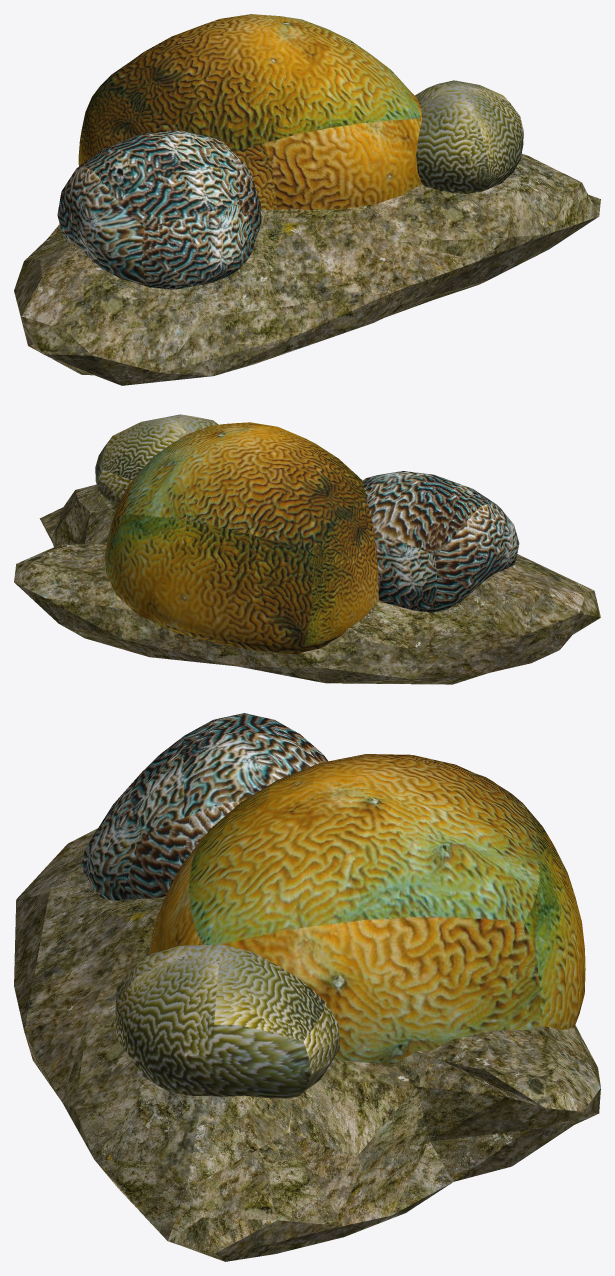
File: platygyra-daedalea.glb
3 renders of one model, top to bottom at view 1: azimuth 30°, elevation 25°; view 2: azimuth 150°, elevation 25°; view 3: azimuth 270°, elevation 25°, orthographic. The views are drawn at different scales.
Visible parts, largest first — view 1: rock, brain1, brain0, brain3; view 2: brain1, rock, brain0, brain3; view 3: rock, brain1, brain3, brain0.
Part boxes in pixels (bbox=[...]): rock: bbox=[14, 153, 600, 385]; brain1: bbox=[78, 14, 421, 210]; brain0: bbox=[57, 130, 261, 289]; brain3: bbox=[415, 80, 523, 193]; brain1: bbox=[104, 422, 378, 654]; rock: bbox=[14, 484, 600, 684]; brain0: bbox=[362, 471, 519, 612]; brain3: bbox=[95, 414, 218, 511]; rock: bbox=[14, 828, 600, 1261]; brain1: bbox=[149, 754, 585, 1064]; brain3: bbox=[114, 944, 339, 1098]; brain0: bbox=[81, 713, 327, 900].
Bounding box in the file's own units: 2.6 × 1.05 × 1.6.
4 materials, 4 textured.
